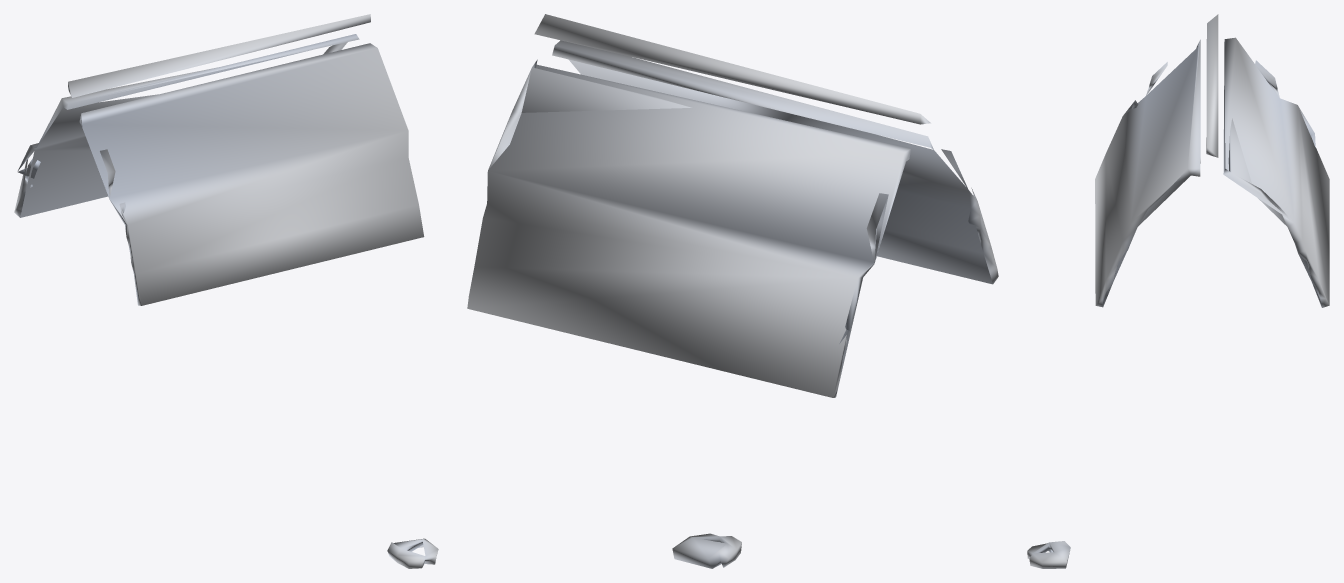
The model's file is protocol.cow.snow.glb.
3 renders of one model, left to right at view 1: azimuth 30°, elevation 25°; view 2: azimuth 150°, elevation 25°; view 3: azimuth 270°, elevation 25°, orthographic. The views are drawn at different scales.
Parts seen in each view (by area): view 1: building.protocol.cow.snow.mesh; view 2: building.protocol.cow.snow.mesh; view 3: building.protocol.cow.snow.mesh.
Boxes of the visible parts, x1,y1,x2,y2 form: building.protocol.cow.snow.mesh: [14, 14, 438, 568]; building.protocol.cow.snow.mesh: [467, 14, 998, 568]; building.protocol.cow.snow.mesh: [1027, 14, 1329, 568].
Size of the model in its own units: 2.28 by 3.43 by 2.17.
